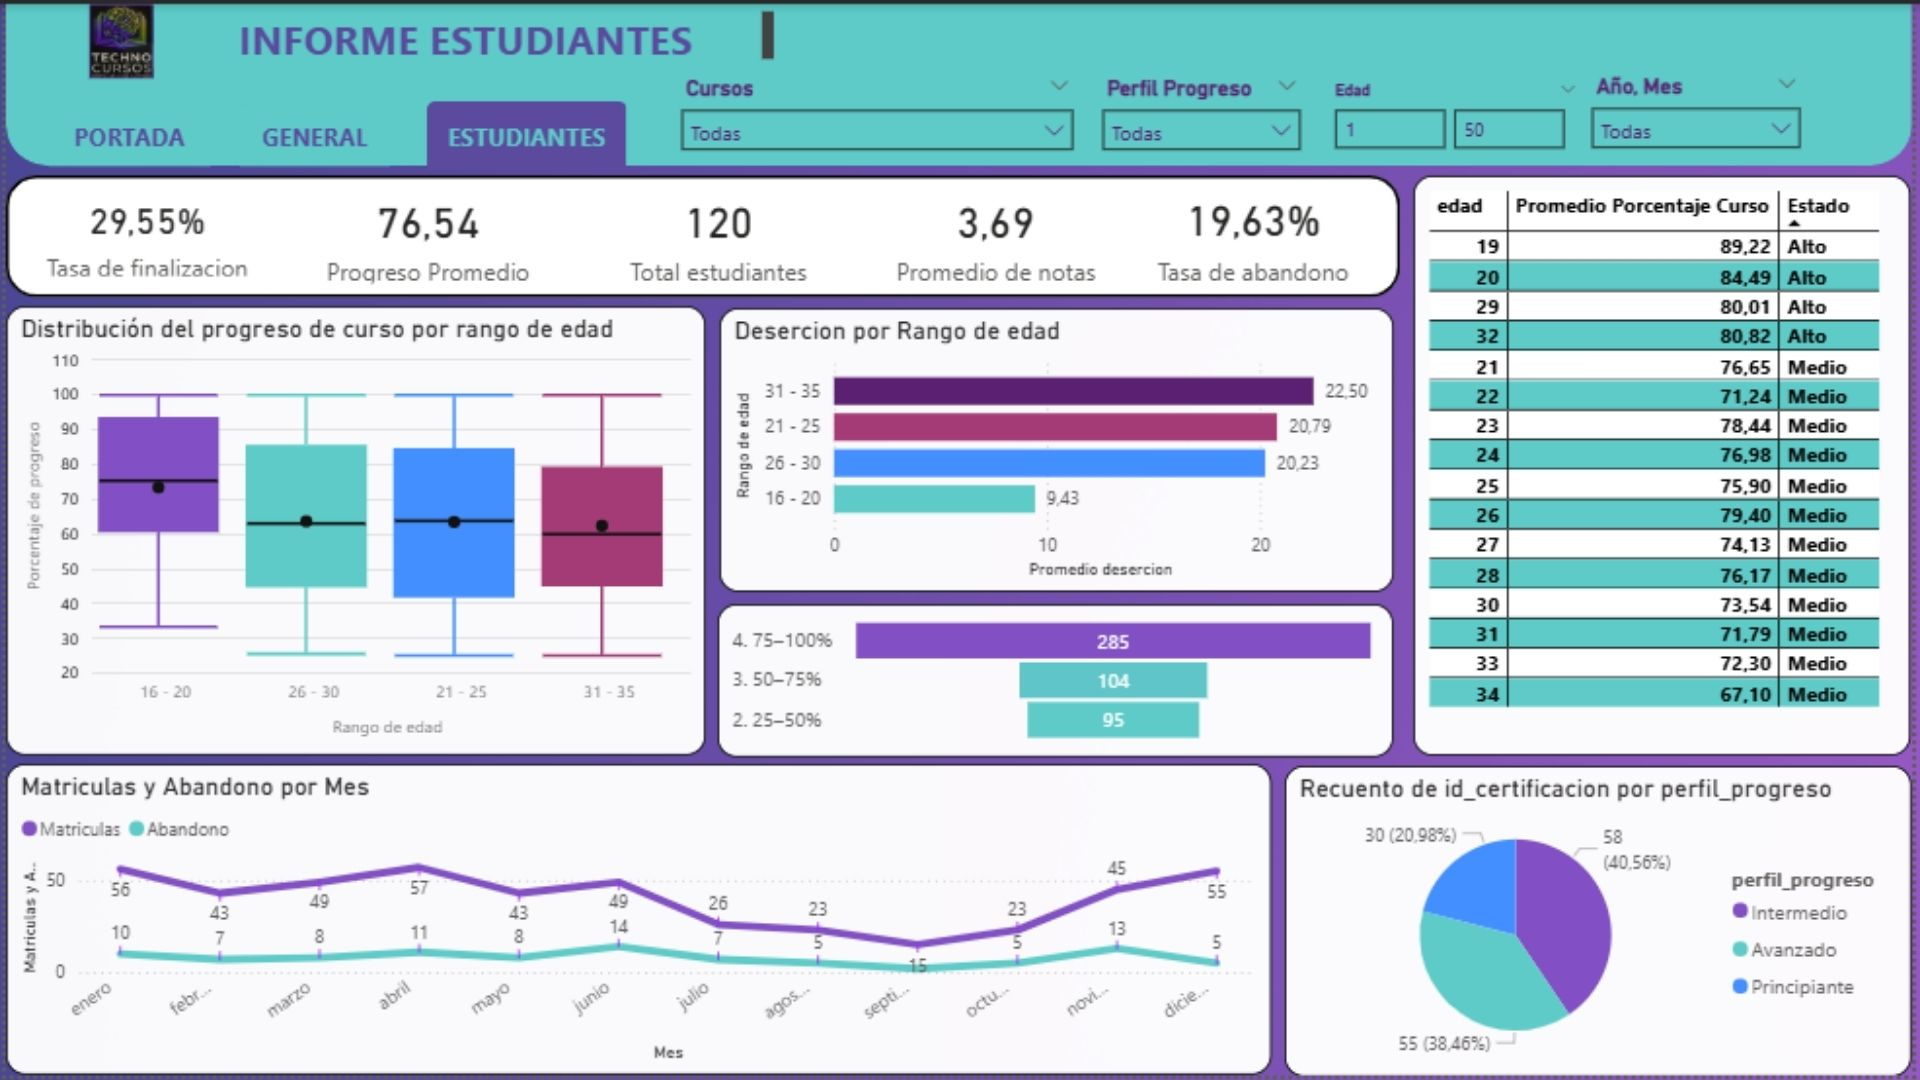

This screenshot's page, from the dashboard's own definition file:
{"tool":"powerbi","page":{"name":"ANALISIS ESTUDIANTES","canvas":[1280,720],"ordinal":2},"visuals":[{"type":"shape","box":[0,115,936.4,82],"z":0},{"type":"shape","box":[0,0,1280,108.6],"z":1000},{"type":"slicer","fields":{"Values":["plataforma_educativa curso.nombre_curso"]},"box":[444.3,42.9,282.9,64.3],"z":2000},{"type":"tableEx","fields":{"Values":["plataforma_educativa estudiante.edad","Avg(plataforma_educativa matricula.porcentaje_curso)","plataforma_educativa matricula.Estado_Por_Grupo"]},"box":[945.7,115.7,334.3,390],"z":3000},{"type":"card","fields":{"Values":["plataforma_educativa certificacion.Tasa de finalizacion"]},"box":[13,118,164,75],"z":4000},{"type":"slicer","fields":{"Values":["plataforma_educativa estudiante.perfil_progreso"]},"box":[727.1,42.9,152.9,64.3],"z":5000},{"type":"card","fields":{"Values":["Avg(plataforma_educativa matricula.porcentaje_curso)"]},"box":[201,118,164,75],"z":6000},{"type":"slicer","fields":{"Values":["plataforma_educativa estudiante.edad"]},"box":[880,47.7,186.9,61.5],"z":7000},{"type":"lineChart","fields":{"Category":["plataforma_educativa matricula.fecha_matricula.Variación.Jerarquía de fechas.Mes"],"Y":["plataforma_educativa matricula.Cantidad Inscripciones","plataforma_educativa matricula.Abandono"]},"box":[0,510.8,850,209.2],"z":8000},{"type":"slicer","fields":{"Values":["plataforma_educativa matricula.fecha_matricula.Variación.Jerarquía de fechas.Año","plataforma_educativa matricula.fecha_matricula.Variación.Jerarquía de fechas.Mes"]},"box":[1055,41.7,160,65],"z":9000},{"type":"BoxWhiskerChart1455240051538","title":"Distribución del progreso de curso por rango de edad","fields":{"Groups":["plataforma_educativa estudiante.Rango_Edad"],"Samples":["plataforma_educativa matricula.porcentaje_curso"],"Values":["plataforma_educativa certificacion.Progreso_Valor"]},"box":[0,203.3,470,301.7],"z":10000},{"type":"textbox","box":[104.3,0,415.8,44.1],"z":11000},{"type":"image","box":[51.4,0,52.9,50],"z":12000},{"type":"actionButton","box":[282.9,65.7,134.3,45.7],"z":13000},{"type":"actionButton","box":[28.8,65,108.8,43.8],"z":14000},{"type":"actionButton","box":[157,65,101,44],"z":15000},{"type":"card","fields":{"Values":["CountNonNull(plataforma_educativa estudiante.id_estudiante)"]},"box":[396,118,164,75],"z":16000},{"type":"card","fields":{"Values":["Avg(plataforma_educativa interaccion.calificacion_evaluacion)"]},"box":[586,118,157,75],"z":17000},{"type":"card","fields":{"Values":["plataforma_educativa certificacion.Abandono dividido por Cantidad Inscripciones 2"]},"box":[755,118,165,74],"z":18000},{"type":"barChart","title":"Desercion por Rango de edad","fields":{"Category":["plataforma_educativa estudiante.Rango_Edad"],"Y":["plataforma_educativa matricula.Tasa_Desercion"]},"box":[478.8,203.8,452.5,191.2],"z":19000},{"type":"funnel","fields":{"Category":["plataforma_educativa matricula.Etapa_Progreso"],"Y":["plataforma_educativa matricula.Estudiantes_Etapa"]},"box":[477.5,403.8,453.8,102.5],"z":20000},{"type":"pieChart","fields":{"Y":["CountNonNull(plataforma_educativa certificacion.id_certificacion)"],"Category":["plataforma_educativa estudiante.perfil_progreso"]},"box":[858.8,511.2,421.2,208.8],"z":21000}]}

Visuals, with their boxes in screenshot pixels (x1, y1, x2, y2), scaled from the page's 1280x720 canvas onto the 1920x1080 screenshot:
shape: l=0, t=172, r=1405, b=296
shape: l=0, t=0, r=1919, b=163
slicer - plataforma_educativa curso.nombre_curso: l=666, t=64, r=1091, b=161
tableEx - plataforma_educativa estudiante.edad x Avg(plataforma_educativa matricula.porcentaje_curso): l=1419, t=174, r=1919, b=759
card - plataforma_educativa certificacion.Tasa de finalizacion: l=20, t=177, r=266, b=290
slicer - plataforma_educativa estudiante.perfil_progreso: l=1091, t=64, r=1320, b=161
card - Avg(plataforma_educativa matricula.porcentaje_curso): l=302, t=177, r=548, b=290
slicer - plataforma_educativa estudiante.edad: l=1320, t=72, r=1600, b=164
lineChart - plataforma_educativa matricula.fecha_matricula.Variación.Jerarquía de fechas.Mes x plataforma_educativa matricula.Cantidad Inscripciones: l=0, t=766, r=1275, b=1079
slicer - plataforma_educativa matricula.fecha_matricula.Variación.Jerarquía de fechas.Año x plataforma_educativa matricula.fecha_matricula.Variación.Jerarquía de fechas.Mes: l=1582, t=63, r=1822, b=160
"Distribución del progreso de curso por rango de edad" BoxWhiskerChart1455240051538: l=0, t=305, r=705, b=758
textbox: l=156, t=0, r=780, b=66
image: l=77, t=0, r=156, b=75
actionButton: l=424, t=99, r=626, b=167
actionButton: l=43, t=98, r=206, b=163
actionButton: l=236, t=98, r=387, b=164
card - CountNonNull(plataforma_educativa estudiante.id_estudiante): l=594, t=177, r=840, b=290
card - Avg(plataforma_educativa interaccion.calificacion_evaluacion): l=879, t=177, r=1114, b=290
card - plataforma_educativa certificacion.Abandono dividido por Cantidad Inscripciones 2: l=1132, t=177, r=1380, b=288
"Desercion por Rango de edad" barChart: l=718, t=306, r=1397, b=592
funnel - plataforma_educativa matricula.Etapa_Progreso x plataforma_educativa matricula.Estudiantes_Etapa: l=716, t=606, r=1397, b=759
pieChart - CountNonNull(plataforma_educativa certificacion.id_certificacion) x plataforma_educativa estudiante.perfil_progreso: l=1288, t=767, r=1919, b=1079
